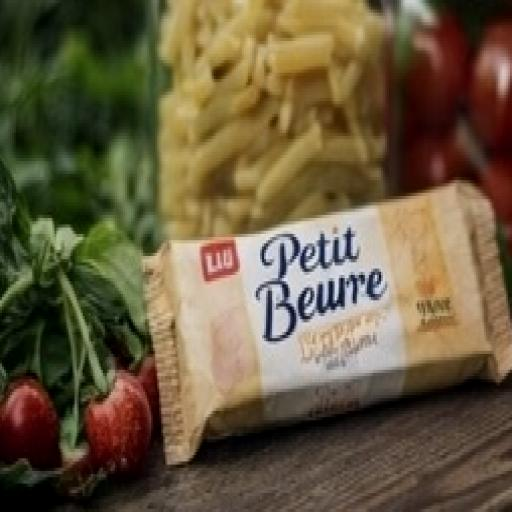petit_beurre: (111, 164, 512, 458)
